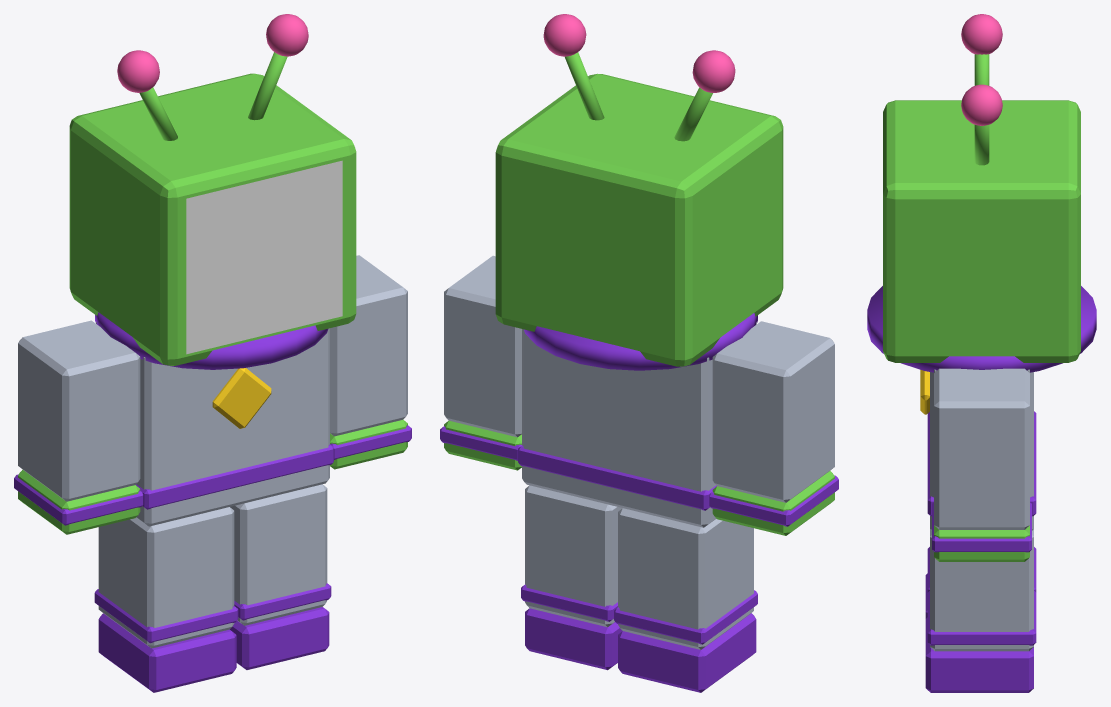
Rendered from zeeb.glb.
3 renders of one model, left to right at view 1: azimuth 30°, elevation 25°; view 2: azimuth 150°, elevation 25°; view 3: azimuth 270°, elevation 25°, orthographic. The views are drawn at different scales.
Visible parts, largest first — view 1: Cube.009, Plane, Cube.004, Cube.005, Cube, Cube.007, Cube.002, Cube.001, Cube.003, Cylinder.002, Cube.010, Cube.006 (+10 smaller); view 2: Cube.009, Cube.004, Cube.005, Cube, Cube.007, Cube.002, Cube.001, Cube.003, Cylinder.002, Cube.010, Cube.006, Cube.014 (+8 smaller); view 3: Cube.009, Cube.007, Cube.002, Cube.003, Cylinder.002, Cube.008, Cube.015, Cube.013, Sphere.001, Sphere, Cube.004, Cube.010 (+3 smaller).
Boxes of the visible parts, x1=… form: Cube.009: x1=69, y1=73, x2=356, y2=365; Plane: x1=186, y1=160, x2=342, y2=354; Cube.004: x1=96, y1=322, x2=329, y2=526; Cube.005: x1=18, y1=320, x2=140, y2=501; Cube: x1=98, y1=507, x2=234, y2=648; Cube.007: x1=330, y1=255, x2=407, y2=436; Cube.002: x1=230, y1=484, x2=327, y2=625; Cube.001: x1=98, y1=613, x2=236, y2=692; Cube.003: x1=230, y1=607, x2=329, y2=669; Cylinder.002: x1=95, y1=312, x2=328, y2=369; Cube.010: x1=136, y1=444, x2=333, y2=509; Cube.006: x1=18, y1=469, x2=140, y2=534; Cube.009: x1=495, y1=73, x2=783, y2=366; Cube.004: x1=522, y1=322, x2=756, y2=527; Cube.005: x1=712, y1=321, x2=834, y2=502; Cube: x1=618, y1=508, x2=753, y2=649; Cube.007: x1=444, y1=255, x2=521, y2=437; Cube.002: x1=525, y1=485, x2=622, y2=627; Cube.001: x1=618, y1=613, x2=756, y2=692; Cube.003: x1=525, y1=608, x2=622, y2=670; Cylinder.002: x1=524, y1=313, x2=757, y2=370; Cube.010: x1=518, y1=445, x2=716, y2=510; Cube.006: x1=712, y1=471, x2=834, y2=535; Cube.014: x1=614, y1=590, x2=757, y2=644; Cube.009: x1=883, y1=100, x2=1080, y2=362; Cube.007: x1=934, y1=368, x2=1029, y2=529; Cube.002: x1=930, y1=529, x2=1033, y2=651; Cube.003: x1=925, y1=617, x2=1033, y2=692; Cylinder.002: x1=867, y1=286, x2=1096, y2=372; Cube.008: x1=934, y1=525, x2=1029, y2=561; Cube.015: x1=927, y1=591, x2=1036, y2=645; Cube.013: x1=932, y1=502, x2=1031, y2=552; Sphere.001: x1=961, y1=84, x2=1002, y2=125; Sphere: x1=961, y1=14, x2=1002, y2=54; Cube.004: x1=930, y1=369, x2=1033, y2=530; Cube.010: x1=927, y1=411, x2=1036, y2=516.
Size of the model in its own units: 1.88 by 3.18 by 1.1.
